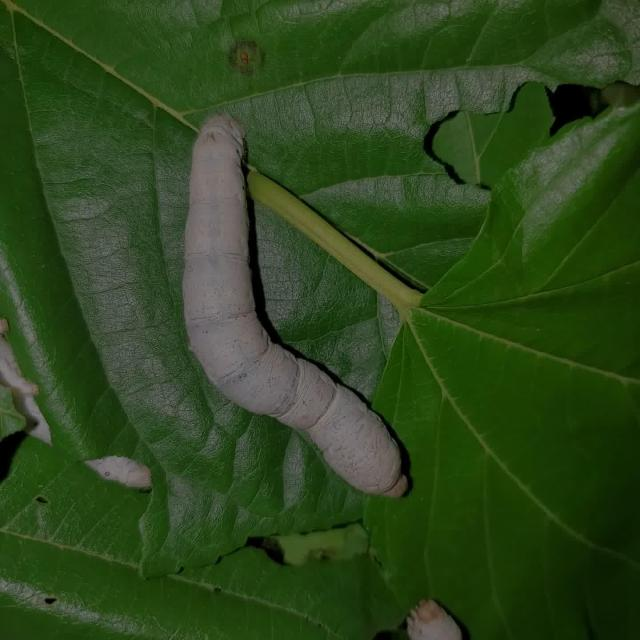Healthy: (148, 86, 436, 515)
